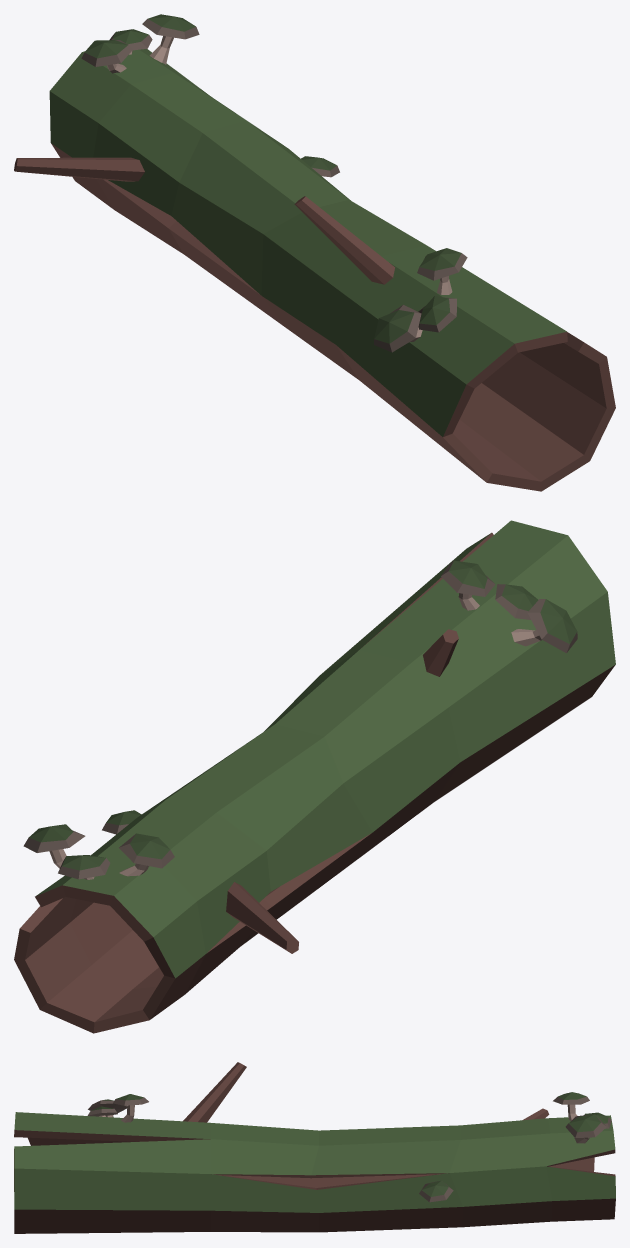
File: landmark-fallen-log.glb
3 renders of one model, top to bottom at view 1: azimuth 30°, elevation 25°; view 2: azimuth 150°, elevation 25°; view 3: azimuth 270°, elevation 25°, orthographic. The views are drawn at different scales.
Visible parts, largest first — view 1: WoodLog_Moss; view 2: WoodLog_Moss; view 3: WoodLog_Moss.
Boxes of the visible parts, bbox=[...] form: WoodLog_Moss: bbox=[14, 14, 615, 491]; WoodLog_Moss: bbox=[14, 520, 615, 1033]; WoodLog_Moss: bbox=[14, 1062, 615, 1233].
Size of the model in its own units: 0.8966 by 0.6883 by 2.67.
Materials: 1 (1 with a texture image).
